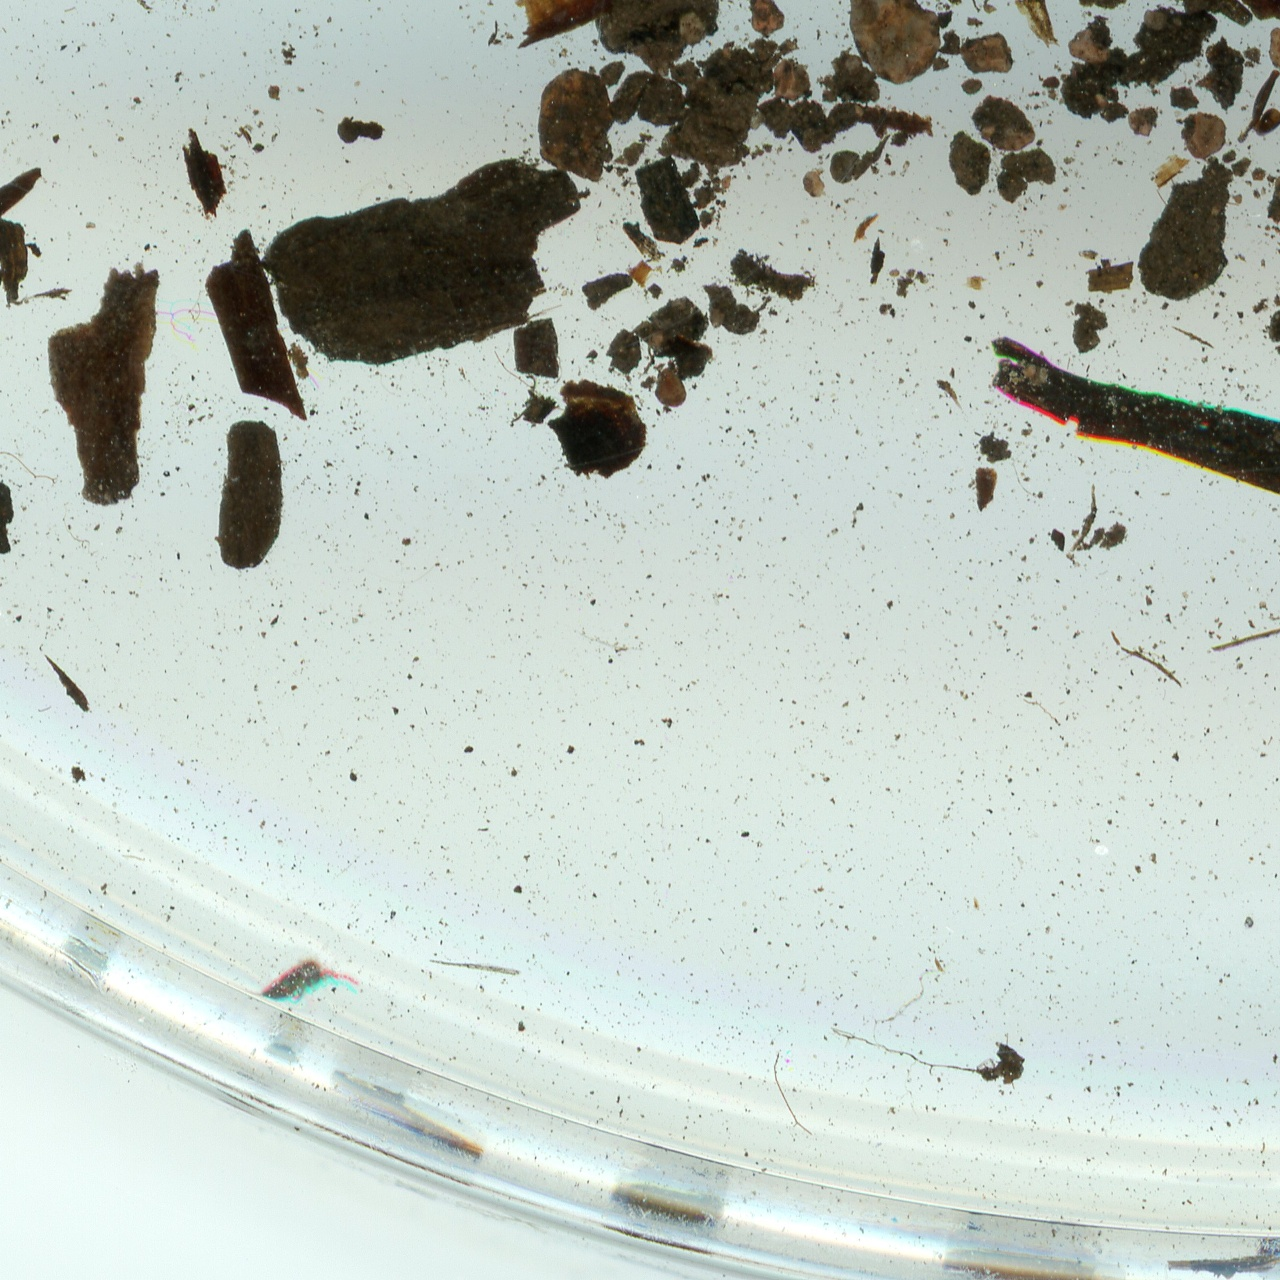arthropod: (243, 955, 361, 1007)
